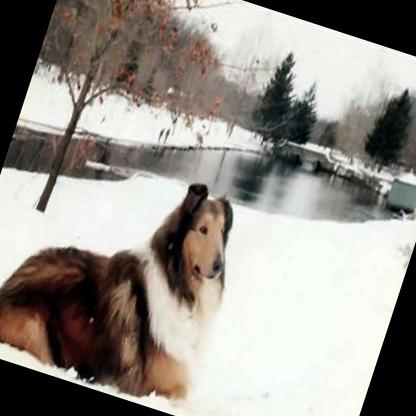collie: (0, 130, 252, 412)
